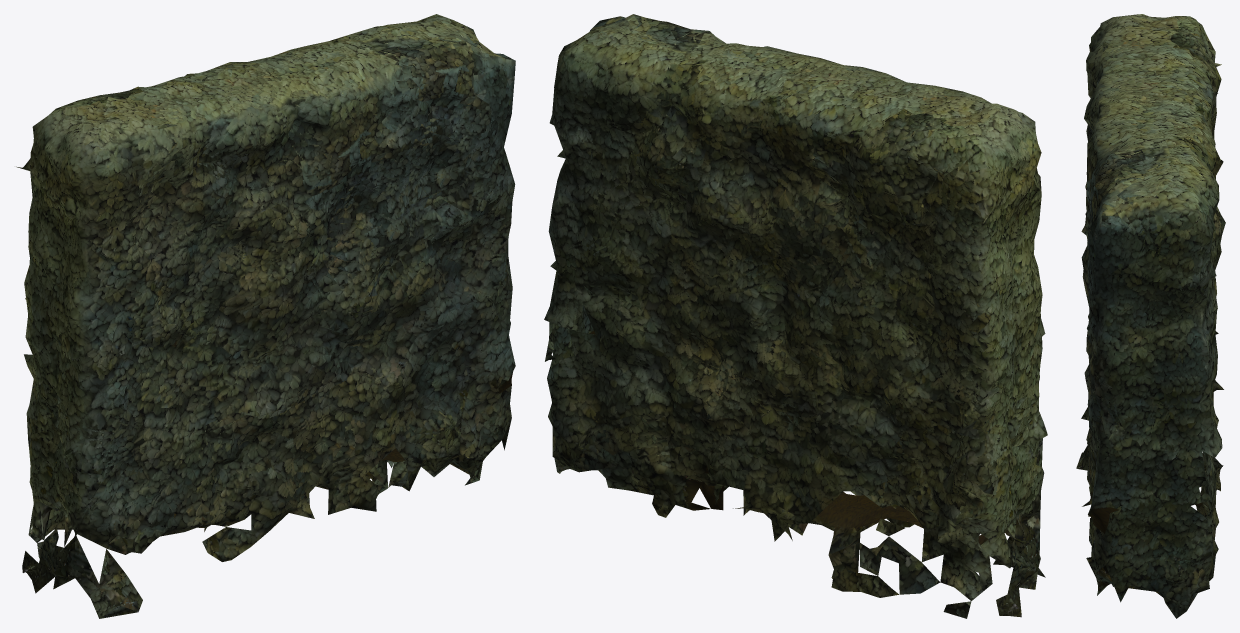
The model's file is Prop_GardenHedge.fbx.
The picture shows the model from 3 angles, left to right: view 1: azimuth 30°, elevation 25°; view 2: azimuth 150°, elevation 25°; view 3: azimuth 270°, elevation 25°; orthographic projection. The views are drawn at different scales.
Visible parts, largest first — view 1: texture_mapping; view 2: texture_mapping; view 3: texture_mapping.
Part boxes in pixels (left/top/right/bottom): texture_mapping: left=16, top=14, right=515, bottom=618; texture_mapping: left=544, top=14, right=1047, bottom=618; texture_mapping: left=1076, top=14, right=1225, bottom=618.
Bounding box in the file's own units: 0.9922 × 0.297 × 0.9879.
1 material, 1 textured.
